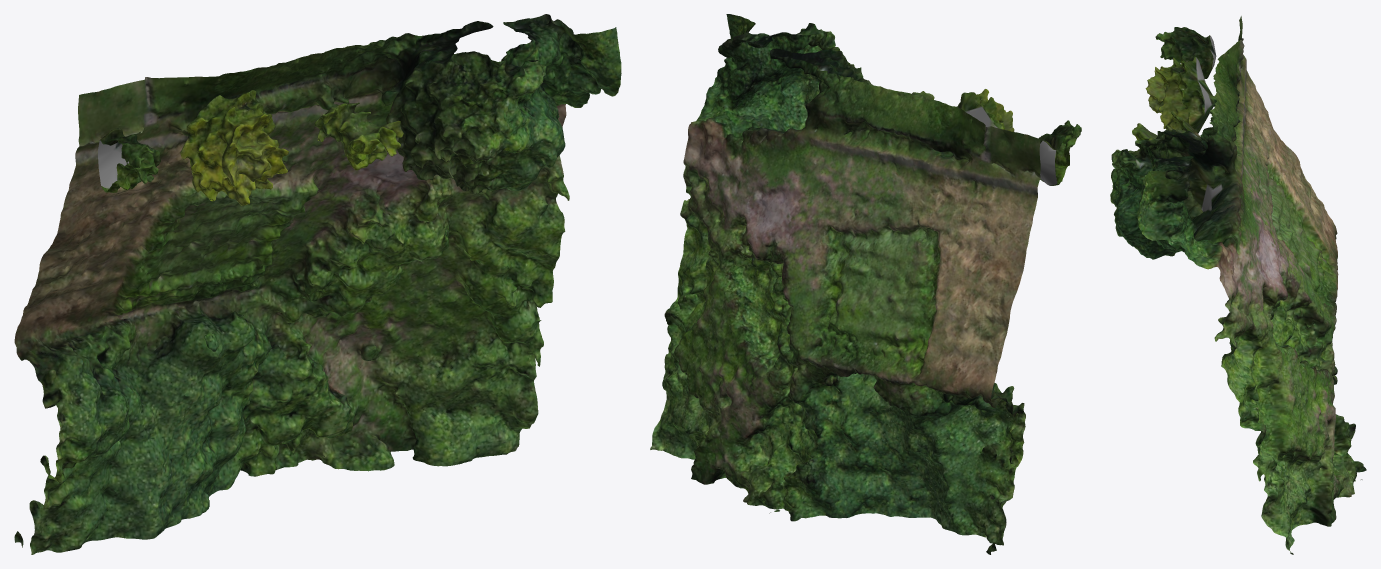
The model's file is Tile_+011_+006.fbx.
3 views of the same model, side by side, from view 1: azimuth 30°, elevation 25°; view 2: azimuth 150°, elevation 25°; view 3: azimuth 270°, elevation 25° (orthographic). The views are drawn at different scales.
Parts seen in each view (by area): view 1: DefaultName; view 2: DefaultName; view 3: DefaultName.
Part boxes in pixels (bbox=[...]): DefaultName: bbox=[14, 14, 621, 554]; DefaultName: bbox=[650, 14, 1081, 554]; DefaultName: bbox=[1110, 16, 1366, 554].
Bounding box in the file's own units: 22.54 × 22.54 × 14.21.
